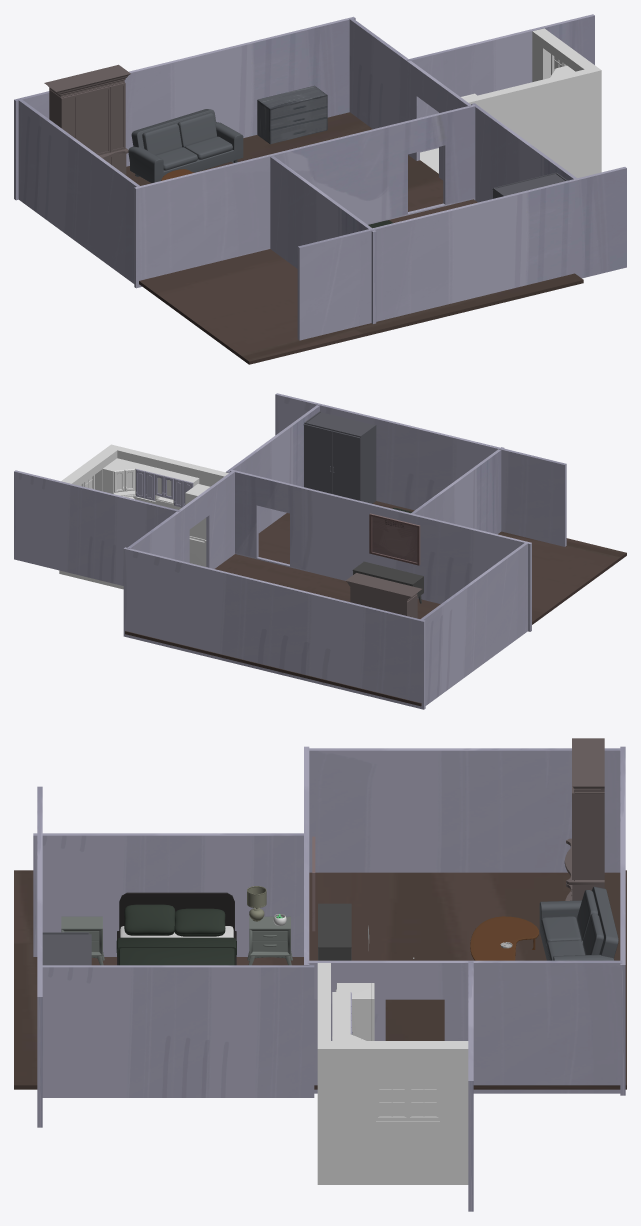
The model's file is apartment.fbx.
The picture shows the model from 3 angles, top to bottom: view 1: azimuth 30°, elevation 25°; view 2: azimuth 150°, elevation 25°; view 3: azimuth 270°, elevation 25°; orthographic projection. The views are drawn at different scales.
Parts seen in each view (by area): view 1: Cube.006, Cube.002, Cube.004, Cube.001, Cube.003, Os_Плоскость:002, Cube.021, Cube.005, Cube.007, Glass Front - Low Poly, Cube.008, Cube (+6 smaller); view 2: Cube.001, Cube.002, Cube.006, Cube.005, Cube.004, Cube.003, wardrobe, Cube.021, Cube.007, Cube.008, Os_Плоскость:002, Glass Front - Low Poly (+5 smaller); view 3: Cube.008, Cube.003, Cube.004, Cube.021, Cube.007, Os_Плоскость:002, Glass Front - Low Poly, Plane.028, window4_low, CoffeeTable, pCube81, Cube.001 (+15 smaller).
Boxes of the visible parts, x1=… form: Cube.006: x1=297, y1=167, x2=626, y2=340; Cube.002: x1=134, y1=104, x2=475, y2=288; Cube.004: x1=126, y1=112, x2=583, y2=364; Cube.001: x1=14, y1=16, x2=355, y2=200; Cube.003: x1=18, y1=99, x2=140, y2=283; Os_Плоскость:002: x1=420, y1=28, x2=601, y2=178; Cube.021: x1=349, y1=18, x2=471, y2=180; Cube.005: x1=407, y1=14, x2=594, y2=152; Cube.007: x1=270, y1=156, x2=376, y2=323; Glass Front - Low Poly: x1=44, y1=64, x2=130, y2=175; Cube.008: x1=471, y1=103, x2=576, y2=202; Cube: x1=257, y1=85, x2=327, y2=144; Cube.001: x1=123, y1=547, x2=425, y2=709; Cube.002: x1=230, y1=469, x2=531, y2=631; Cube.006: x1=275, y1=393, x2=566, y2=546; Cube.005: x1=14, y1=470, x2=180, y2=585; Cube.004: x1=125, y1=501, x2=626, y2=706; Cube.003: x1=420, y1=543, x2=527, y2=705; wardrobe: x1=303, y1=411, x2=376, y2=503; Cube.021: x1=127, y1=470, x2=235, y2=568; Cube.007: x1=411, y1=447, x2=504, y2=534; Cube.008: x1=226, y1=405, x2=319, y2=532; Os_Плоскость:002: x1=59, y1=444, x2=228, y2=589; Glass Front - Low Poly: x1=345, y1=573, x2=421, y2=618; Cube.008: x1=42, y1=965, x2=314, y2=1097; Cube.003: x1=308, y1=748, x2=620, y2=872; Cube.004: x1=14, y1=870, x2=626, y2=1089; Cube.021: x1=307, y1=960, x2=622, y2=1093; Cube.007: x1=33, y1=833, x2=303, y2=956; Os_Плоскость:002: x1=317, y1=963, x2=468, y2=1184; Glass Front - Low Poly: x1=564, y1=738, x2=604, y2=900; Plane.028: x1=116, y1=937, x2=236, y2=965; window4_low: x1=379, y1=1064, x2=436, y2=1115; CoffeeTable: x1=470, y1=916, x2=538, y2=960; pCube81: x1=539, y1=886, x2=618, y2=960; Cube.001: x1=620, y1=746, x2=625, y2=1095.
Bounding box in the file's own units: 4135 × 927 × 3198.
